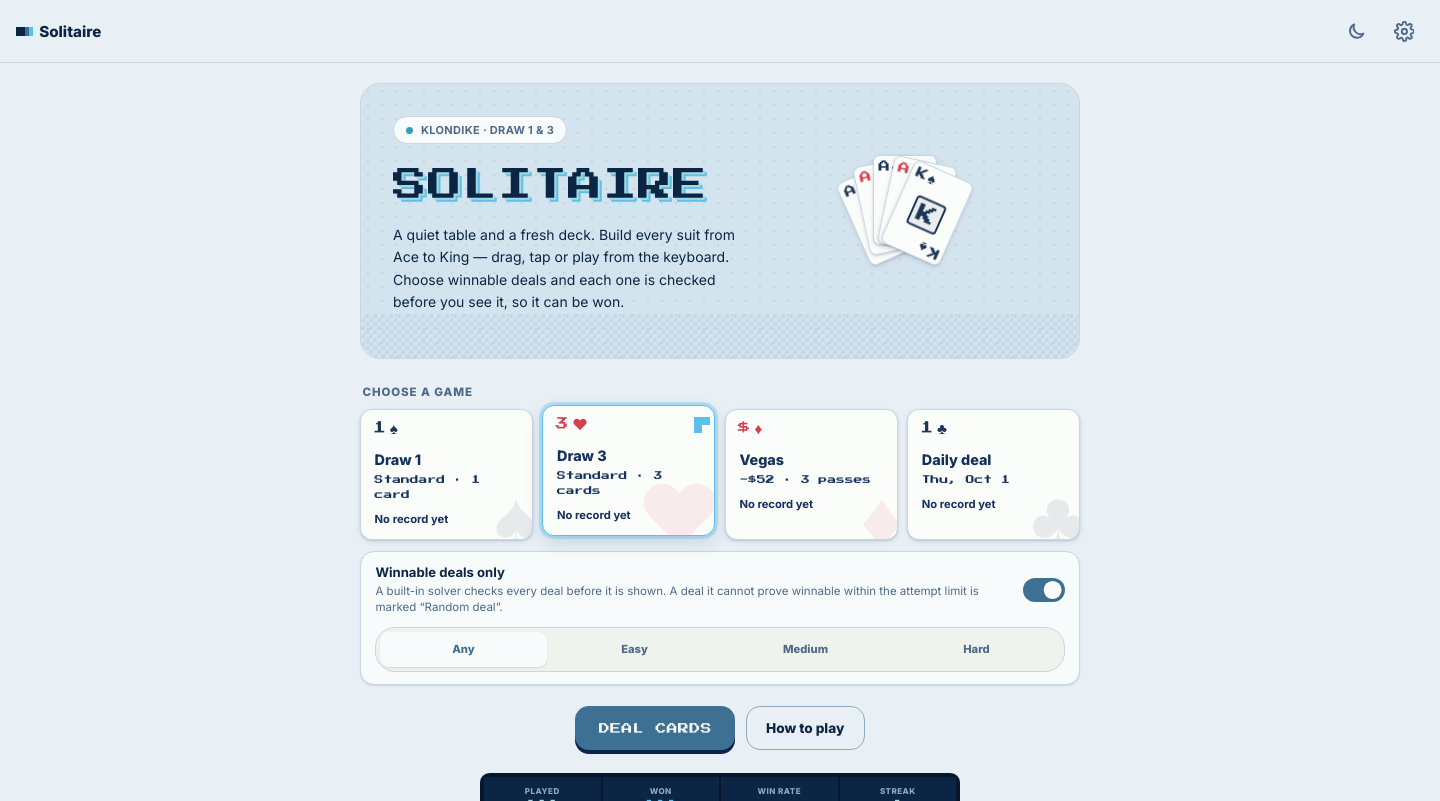
Test: Home Winnable card: the Difficulty control › keeps Hard through Daily and back to Vegas, where it is enabled
This screenshot has width=1440, height=801.
Click the radio button labelled "Hard": point(976, 649) [893,632,1060,667]
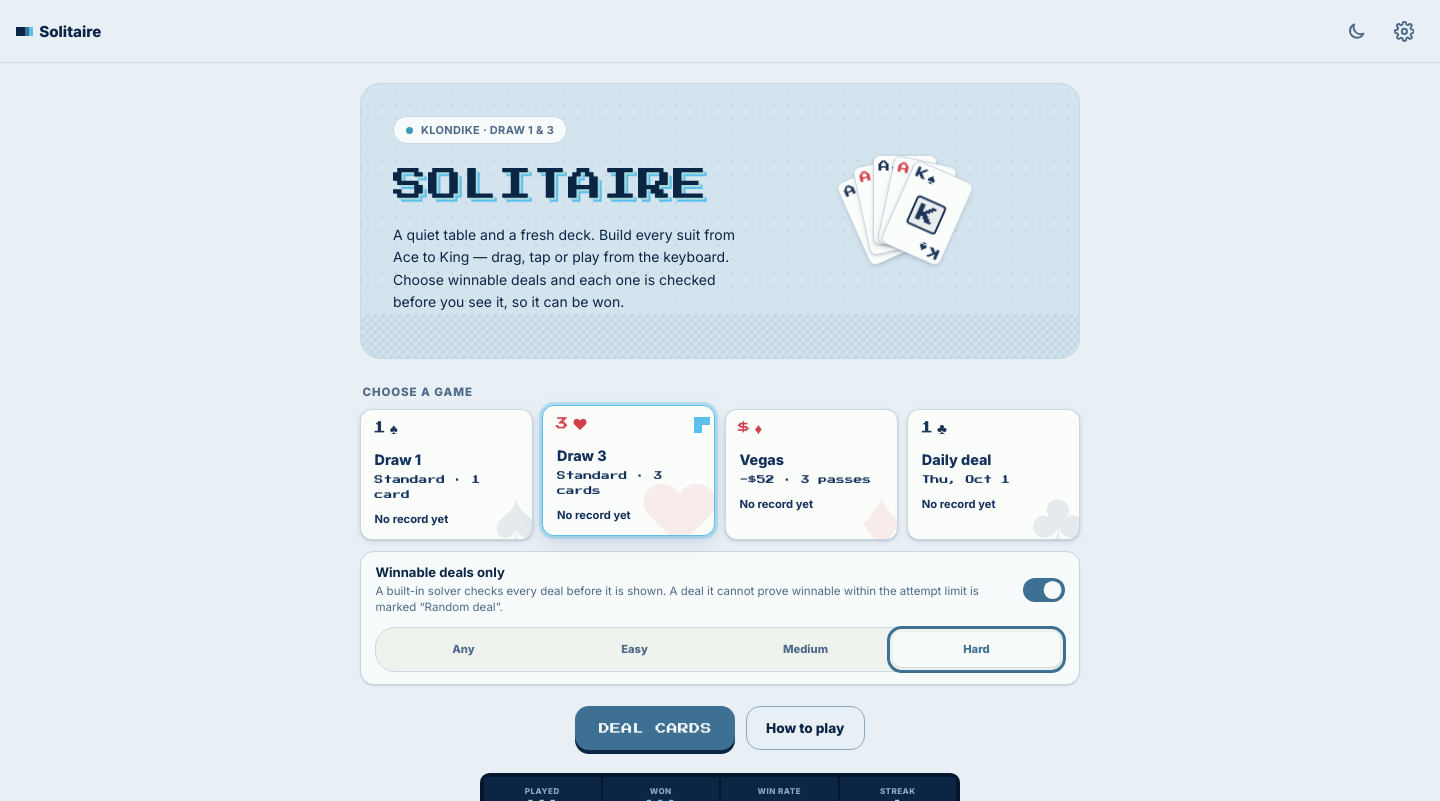
Click the radio button labelled "Daily deal": point(994, 474) [907,408,1080,540]
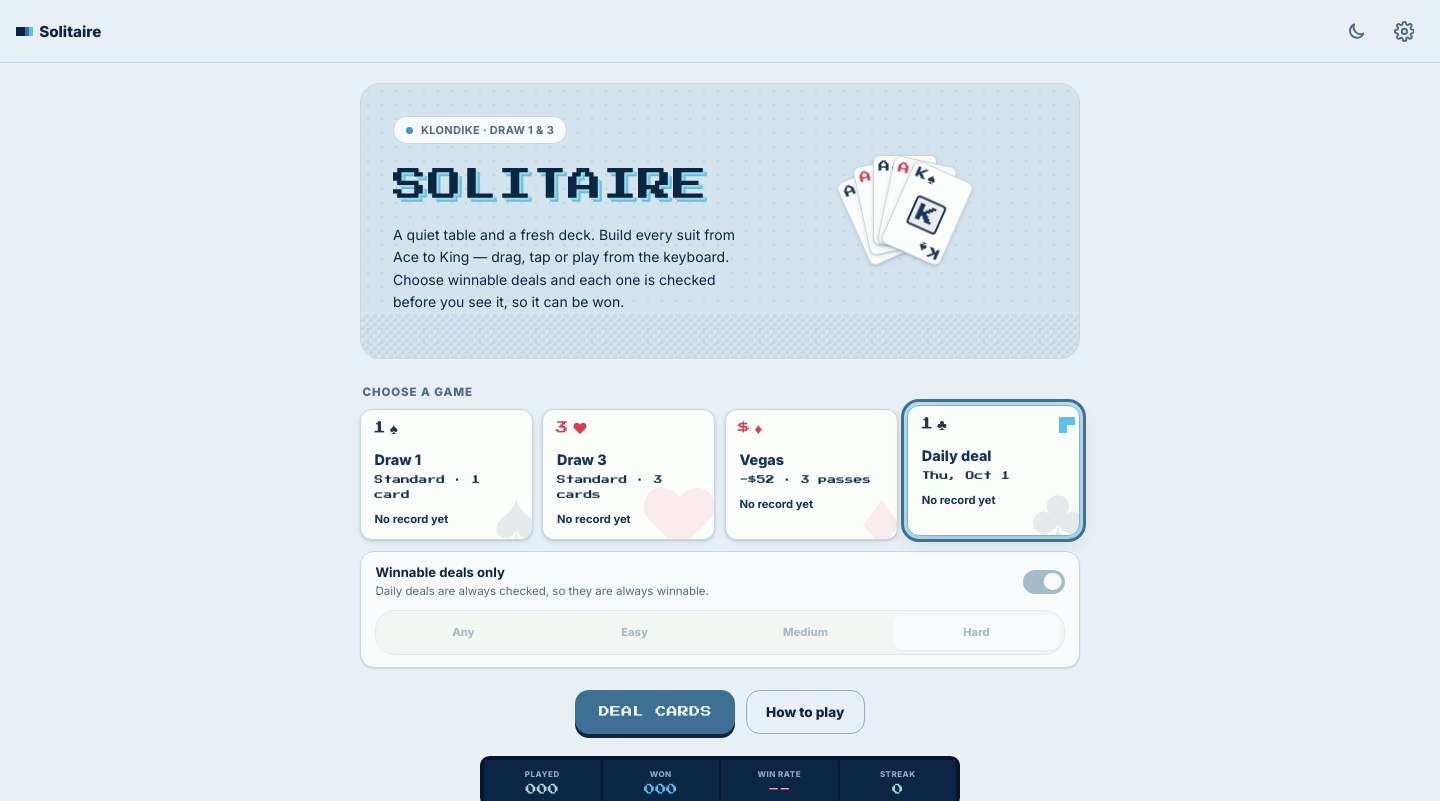
expect the radio button labelled "Hard" is shown: met, box [893,615,1060,650]
expect the element named "Difficulty" is disabled: met, box [375,610,1065,655]
Click the radio button labelled "Vegas": point(811, 474) [725,408,898,540]
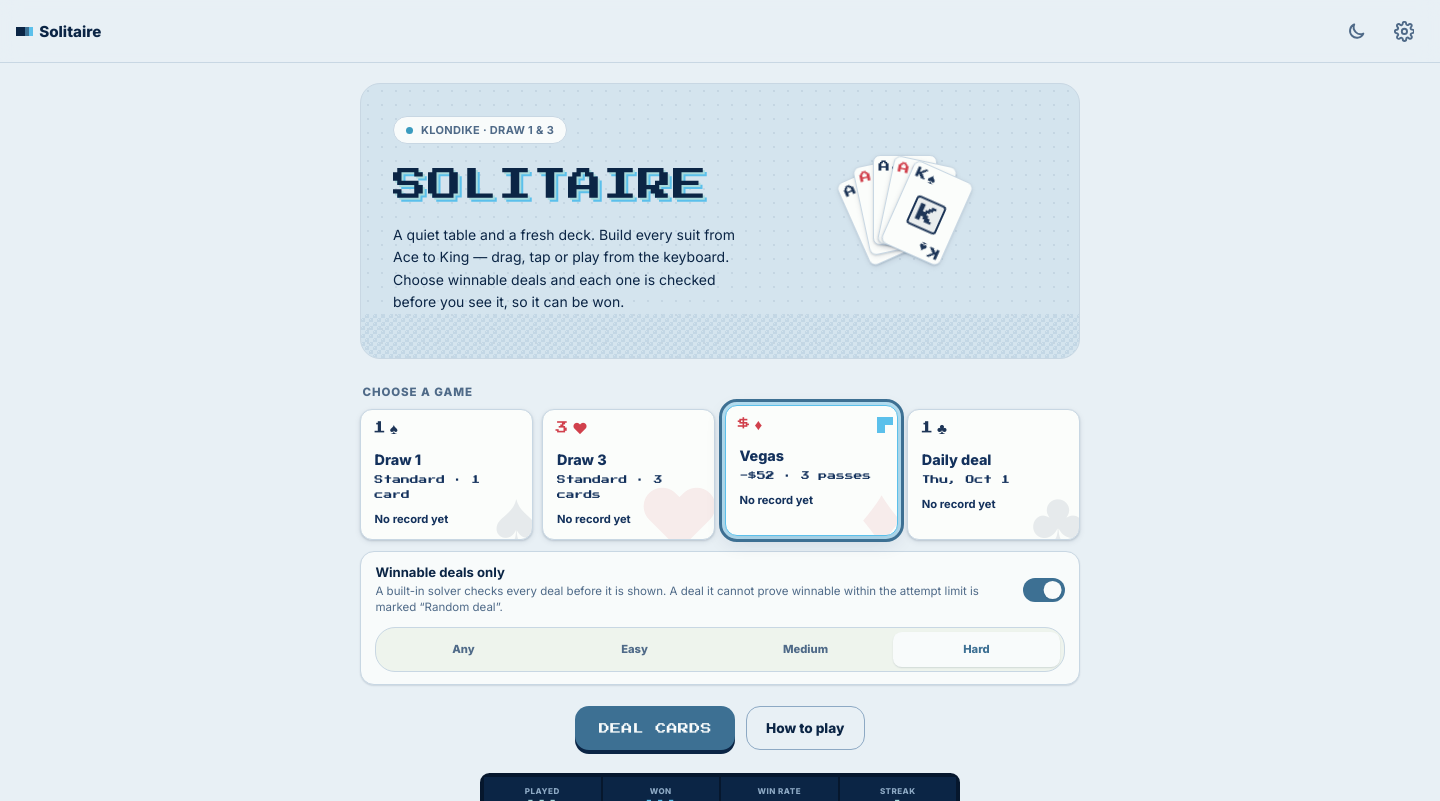
expect the radio button labelled "Hard" is shown: met, box [893,632,1060,667]
expect the switch named "Winnable deals only" is enabled: met, box [1023,578,1065,602]
expect the radio button labelled "Hard" is enabled: met, box [893,632,1060,667]
